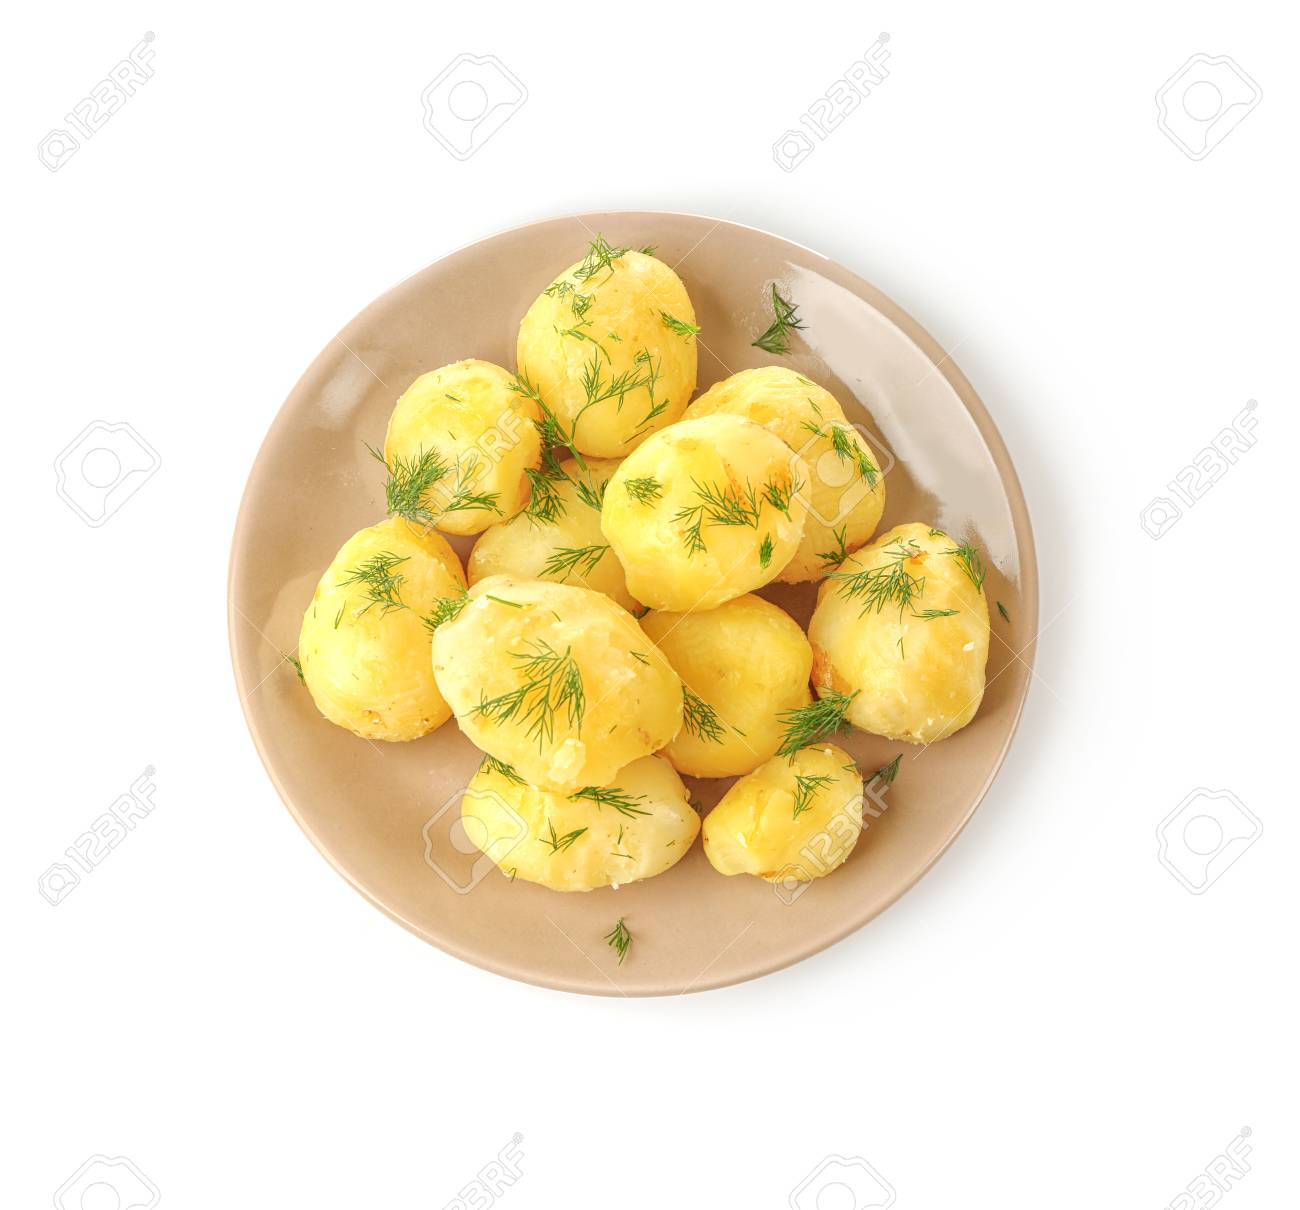boiled potatoes: (437, 585, 670, 782), (517, 250, 701, 451), (301, 520, 467, 741), (828, 529, 991, 746), (705, 368, 879, 567), (608, 423, 797, 598), (465, 753, 696, 892), (639, 592, 805, 771), (469, 459, 648, 600), (391, 357, 539, 525), (702, 743, 863, 887)
